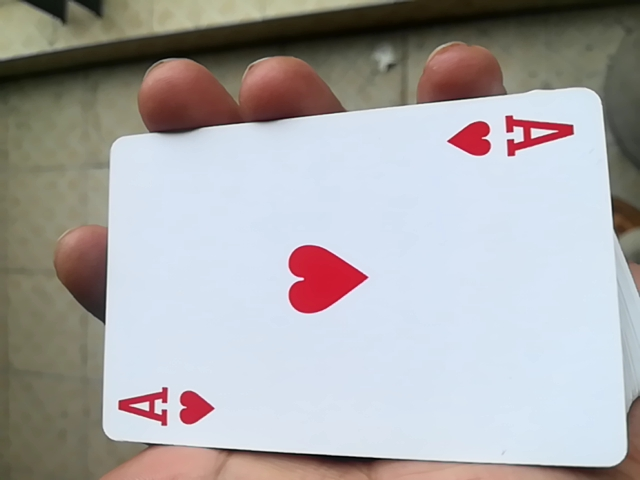hx a: (75, 95, 628, 467)
